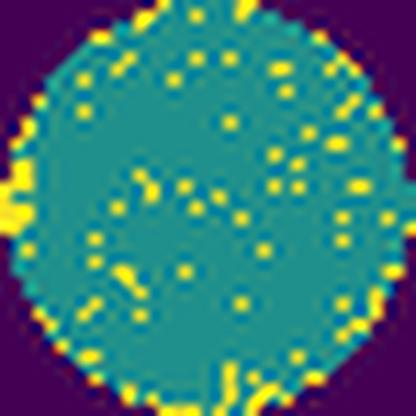Edge-Loc: (0, 152, 41, 234)
